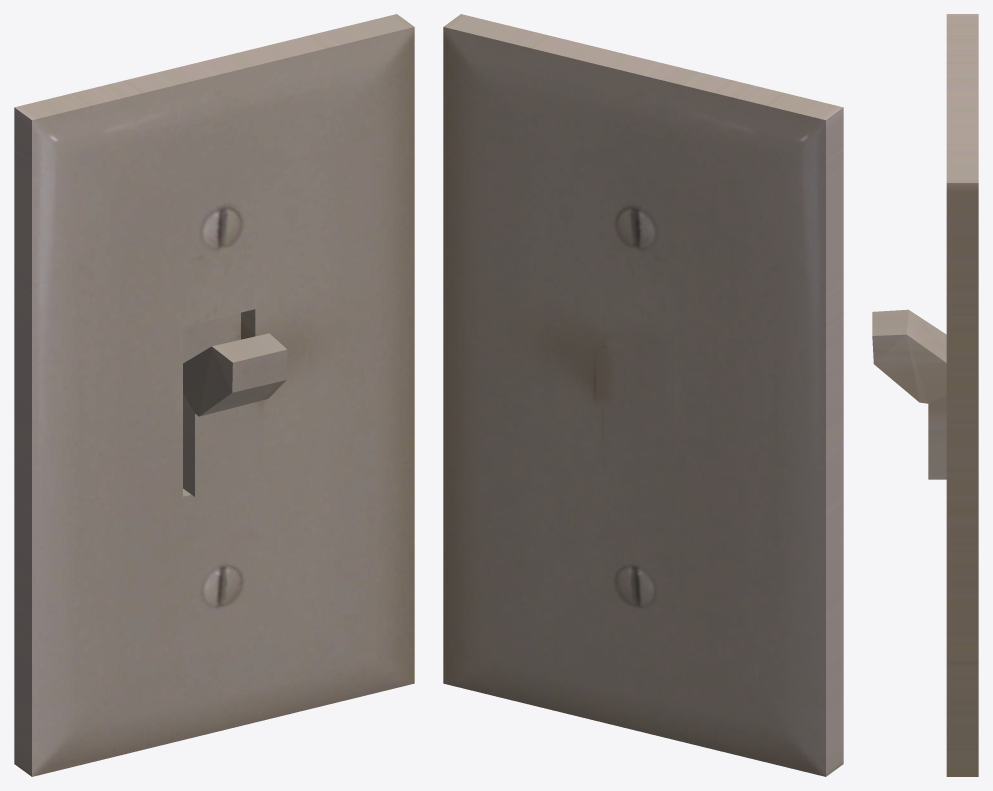
File: switch.fbx
3 renders of one model, left to right at view 1: azimuth 30°, elevation 25°; view 2: azimuth 150°, elevation 25°; view 3: azimuth 270°, elevation 25°, orthographic. The views are drawn at different scales.
Parts seen in each view (by area): view 1: Cube; view 2: Cube; view 3: Cube.
Boxes of the visible parts, <box> form: Cube: <box>14,14,414,776</box>; Cube: <box>443,14,843,776</box>; Cube: <box>872,14,978,776</box>.
Size of the model in its own units: 0.5 by 0.82 by 0.1331.
1 material, 1 textured.
